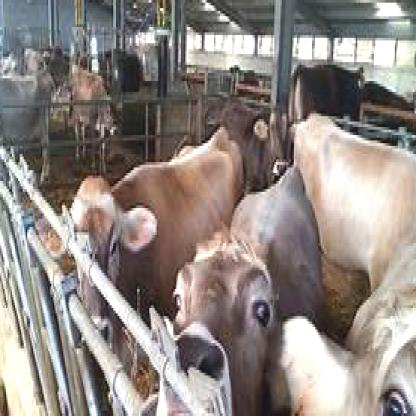cow: (157, 160, 326, 414), (48, 124, 244, 338)
